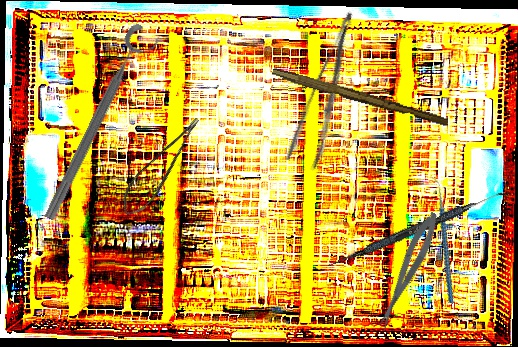Chopper: (403, 175, 481, 304)
Dressing Forceps: (282, 8, 380, 173)
Fixation Ring: (38, 21, 164, 229)
Micro Scissor: (111, 114, 216, 222), (370, 208, 445, 333)
Scalpel Handle: (270, 67, 450, 128)
Spatula Surgical: (327, 184, 509, 273)
